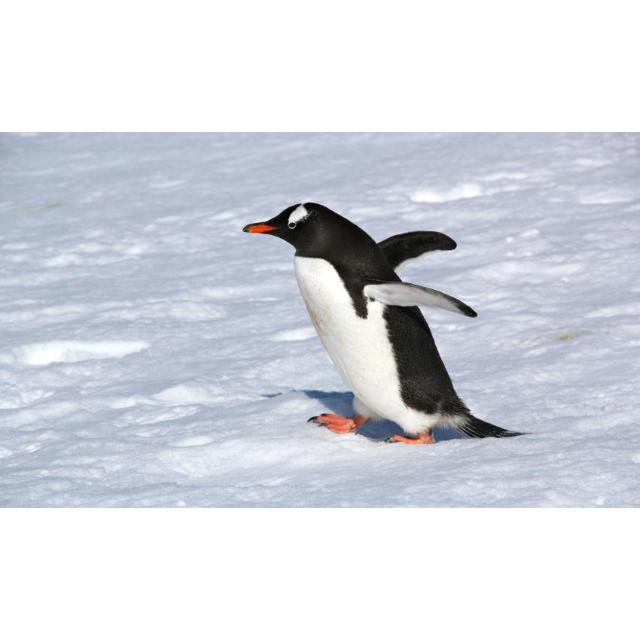penguin: (243, 203, 531, 446)
